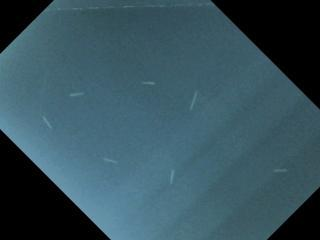crack: (48, 0, 215, 15)
scratch: (156, 161, 184, 193), (185, 87, 203, 116), (65, 87, 90, 102), (269, 163, 292, 179), (39, 113, 55, 134), (137, 81, 160, 95), (99, 154, 120, 165)
